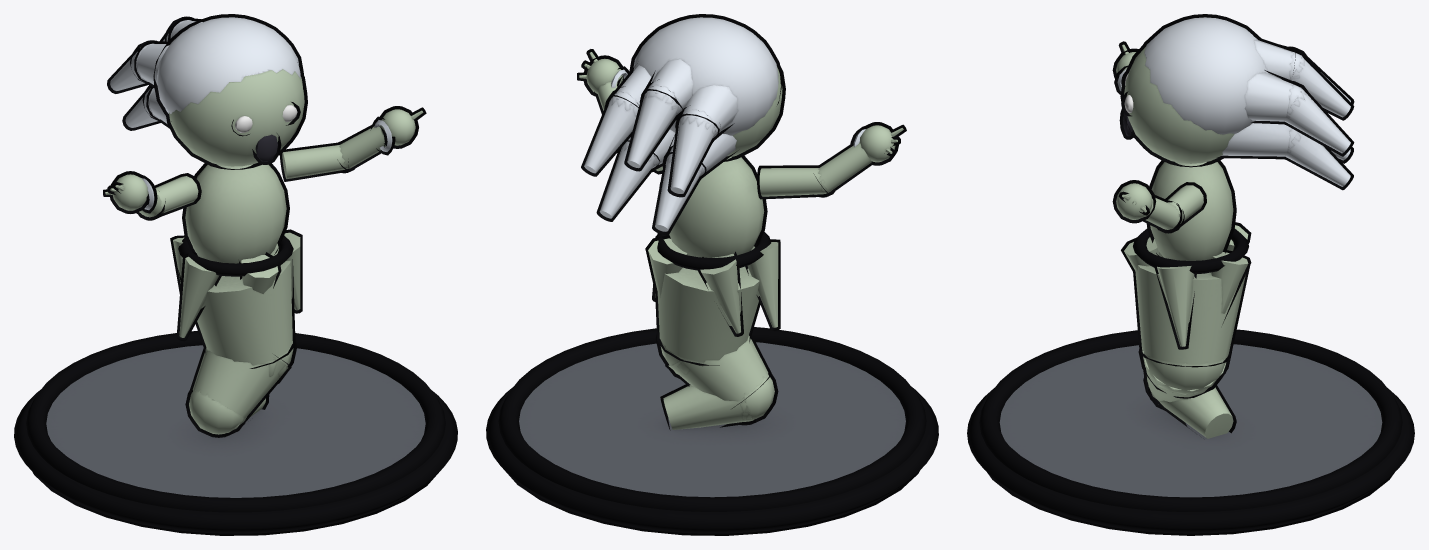
Rendered from banshee_s2.fbx.
3 renders of one model, left to right at view 1: azimuth 30°, elevation 25°; view 2: azimuth 150°, elevation 25°; view 3: azimuth 270°, elevation 25°, orthographic. The views are drawn at different scales.
Parts seen in each view (by area): view 1: banshee_s2; view 2: banshee_s2; view 3: banshee_s2.
Boxes of the visible parts, box(x1,y1,x2,y2) form: banshee_s2: box(14, 14, 457, 535); banshee_s2: box(486, 14, 938, 535); banshee_s2: box(967, 14, 1414, 535).
Size of the model in its own units: 1.58 by 1.65 by 1.58.
Materials: 2 (1 with a texture image).
